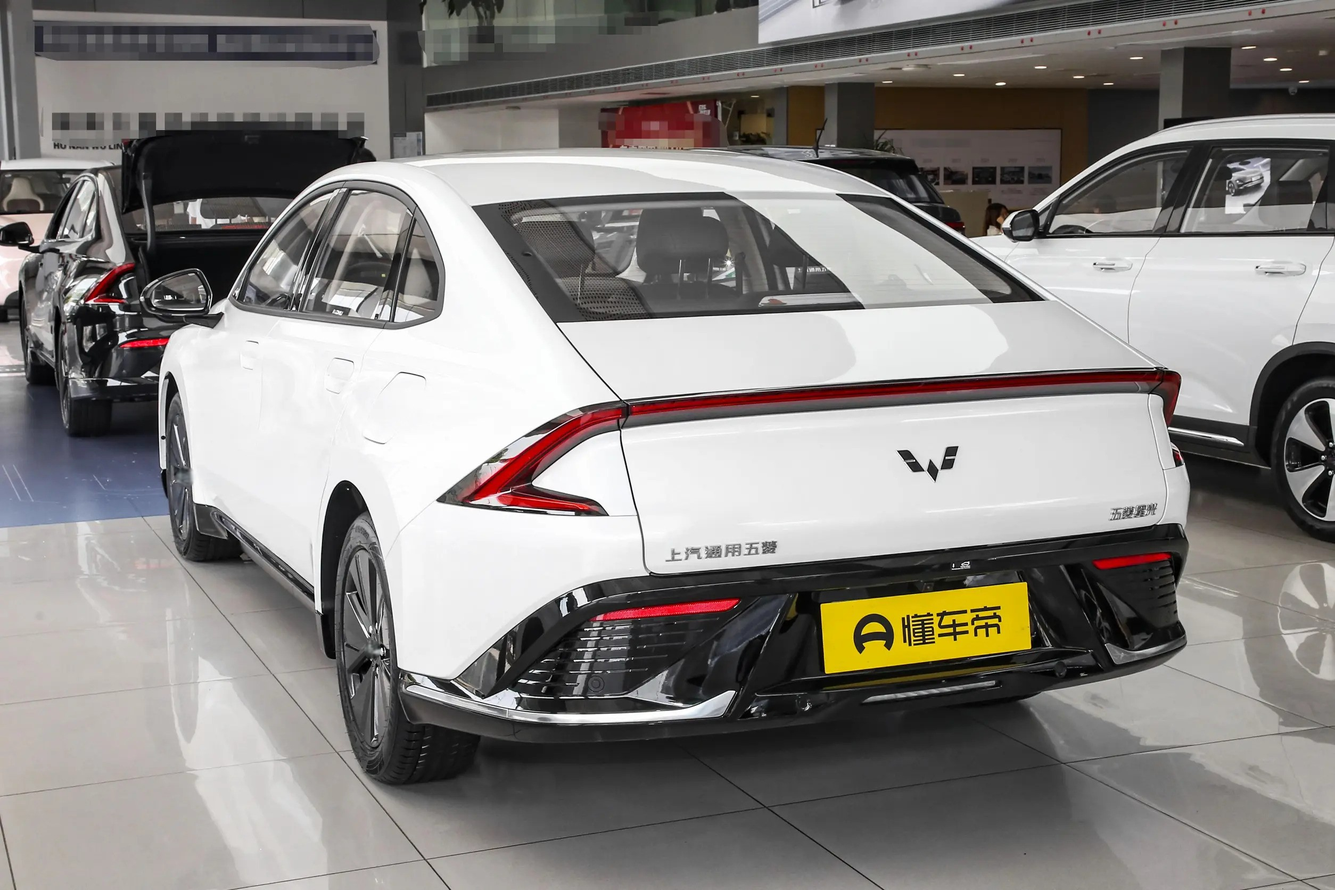SGMW: (896, 446, 958, 482)
